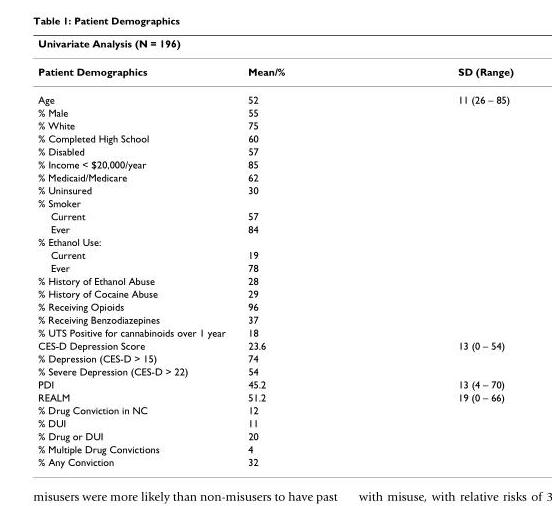table: (37, 36, 512, 467)
table column: (37, 36, 236, 467), (370, 36, 512, 467), (236, 36, 370, 467)
table column header: (37, 36, 512, 85)
table projected row header: (37, 196, 512, 209), (37, 235, 512, 248)
table row: (37, 56, 512, 85), (37, 36, 512, 56), (37, 85, 512, 105), (37, 105, 512, 118), (37, 118, 512, 131), (37, 131, 512, 144), (37, 144, 512, 157), (37, 157, 512, 170), (37, 170, 512, 183), (37, 183, 512, 196), (37, 196, 512, 209), (37, 209, 512, 222), (37, 222, 512, 235), (37, 235, 512, 248), (37, 260, 512, 273), (37, 273, 512, 286), (37, 286, 512, 299), (37, 299, 512, 312), (37, 312, 512, 325), (37, 325, 512, 338), (37, 338, 512, 351), (37, 351, 512, 364), (37, 364, 512, 377), (37, 377, 512, 390), (37, 390, 512, 403), (37, 403, 512, 416), (37, 416, 512, 429), (37, 429, 512, 442), (37, 442, 512, 455), (37, 248, 512, 260), (37, 455, 512, 467)
table spanning cell: (37, 36, 512, 56)
